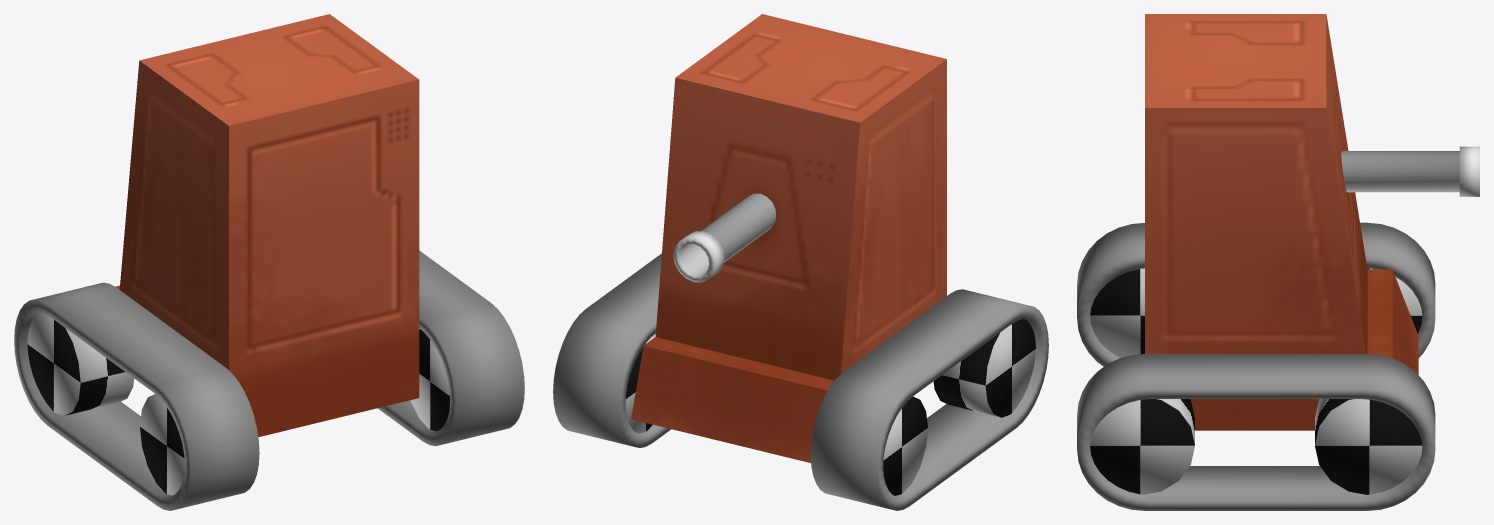
Rendered from tank-01.glb.
3 renders of one model, left to right at view 1: azimuth 30°, elevation 25°; view 2: azimuth 150°, elevation 25°; view 3: azimuth 270°, elevation 25°, orthographic. The views are drawn at different scales.
Visible parts, largest first — view 1: Body, Tracks-R, Tracks-L, Wheel-FL, Wheel-BL, Wheel-BR; view 2: Body, Tracks-R, Tracks-L, Wheel-BL, Barrel, Wheel-FL, Wheel-FR; view 3: Body, Tracks-L, Tracks-R, Wheel-FR, Wheel-BR, Barrel, Wheel-BL, Wheel-FL.
Boxes of the visible parts, box(x1,y1,x2,y2) form: Body: box(115, 14, 419, 437); Tracks-R: box(14, 282, 259, 510); Tracks-L: box(378, 250, 524, 446); Wheel-FL: box(27, 313, 134, 415); Wheel-BL: box(140, 394, 184, 495); Wheel-BR: box(410, 329, 449, 431); Body: box(631, 14, 946, 462); Tracks-R: box(810, 289, 1048, 510); Tracks-L: box(553, 253, 671, 447); Wheel-BL: box(933, 319, 1035, 417); Barrel: box(673, 193, 776, 282); Wheel-FL: box(883, 396, 927, 495); Wheel-FR: box(625, 334, 655, 433); Body: box(1145, 14, 1418, 430); Tracks-L: box(1077, 354, 1435, 510); Tracks-R: box(1077, 222, 1435, 366); Wheel-FR: box(1315, 399, 1422, 494); Wheel-BR: box(1090, 399, 1194, 494); Barrel: box(1341, 146, 1479, 196); Wheel-BL: box(1090, 268, 1144, 357); Wheel-FL: box(1367, 268, 1422, 333).
Bounding box in the file's own units: 3.51 × 3.64 × 3.62.
Materials: 2 (2 with a texture image).
